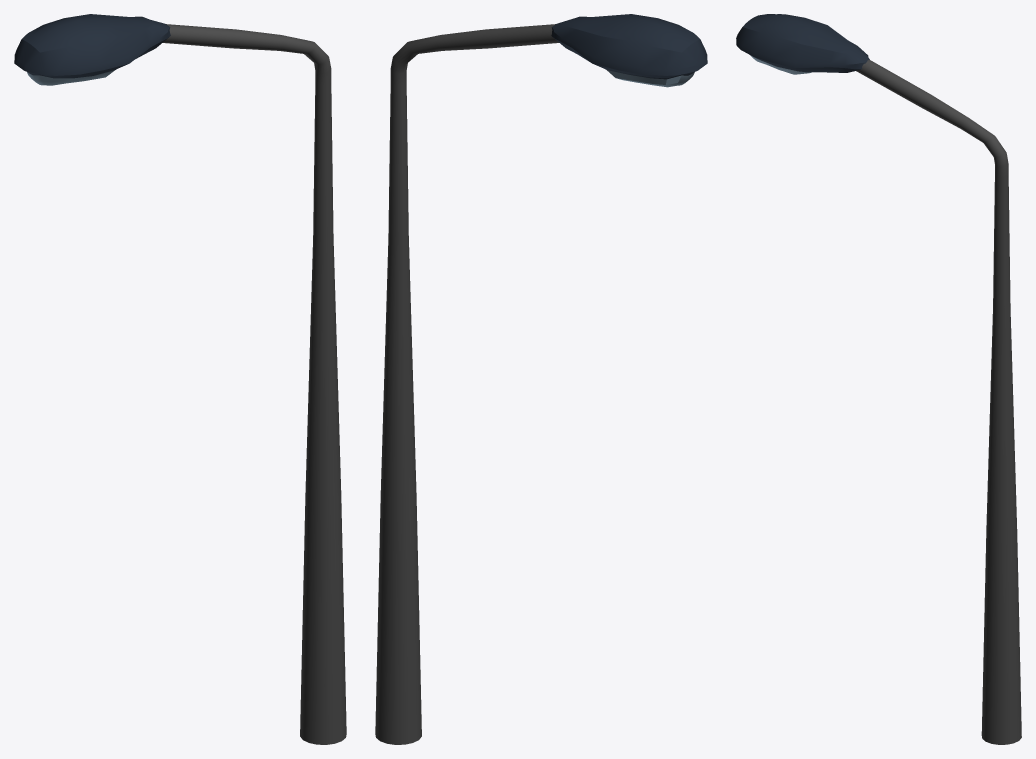
The model's file is StreetLamp.fbx.
The picture shows the model from 3 angles, left to right: view 1: azimuth 30°, elevation 25°; view 2: azimuth 150°, elevation 25°; view 3: azimuth 330°, elevation 25°; orthographic projection. The views are drawn at different scales.
Parts seen in each view (by area): view 1: Street Light; view 2: Street Light; view 3: Street Light.
Part boxes in pixels (left/top/right/bottom): Street Light: left=14, top=14, right=346, bottom=744; Street Light: left=375, top=14, right=707, bottom=744; Street Light: left=736, top=14, right=1021, bottom=744.
Bounding box in the file's own units: 154 × 352 × 38.91.
